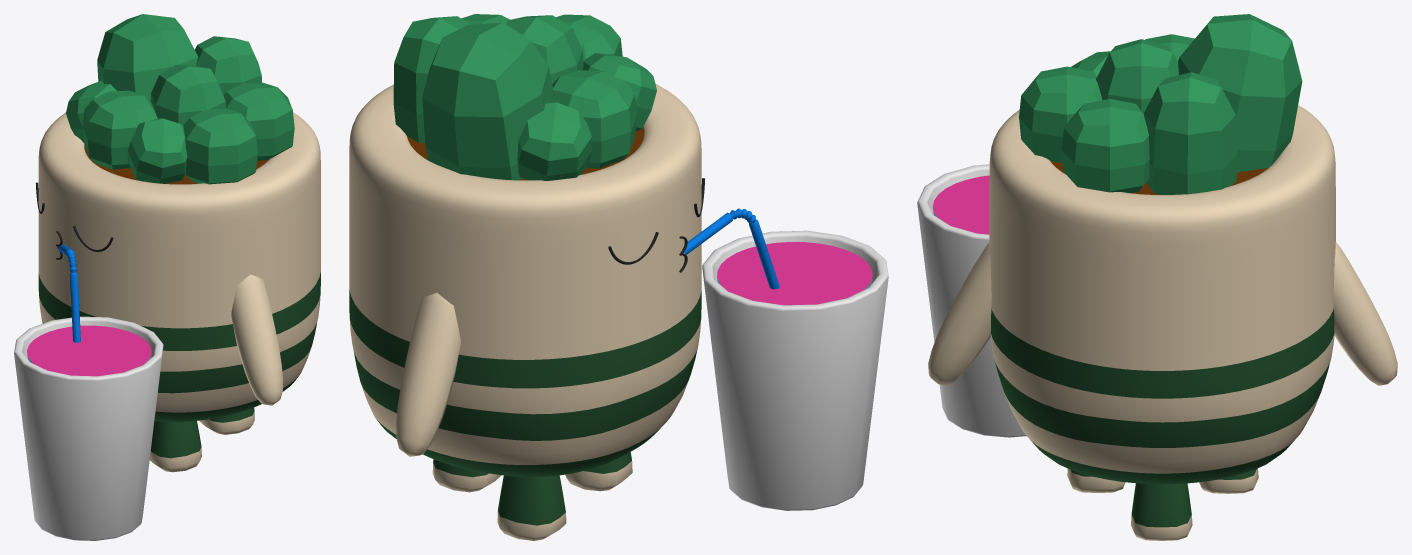
Rendered from vegesims-drink2.glb.
3 views of the same model, side by side, from view 1: azimuth 30°, elevation 25°; view 2: azimuth 150°, elevation 25°; view 3: azimuth 270°, elevation 25° (orthographic). The views are drawn at different scales.
Visible parts, largest first — view 1: body, hair, glass, drink, arm-left, leg-left, leg-back, cannuccia, ground; view 2: body, hair, glass, drink, arm-right, leg-right, cannuccia, leg-left, leg-back; view 3: body, hair, glass, arm-right, arm-left, leg-back, drink, leg-right, leg-left.
Part boxes in pixels (x1,y1,x2,y2): body: (38,112,320,422); hair: (66,14,294,184); glass: (14,316,163,540); drink: (27,325,151,376); arm-left: (231,274,282,405); leg-left: (149,421,201,472); leg-back: (199,407,254,434); cannuccia: (59,244,80,342); ground: (84,145,268,184); body: (349,83,701,477); hair: (393,14,656,181); glass: (702,230,888,510); drink: (717,242,872,305); arm-right: (396,293,460,456); leg-right: (497,475,566,540); cannuccia: (684,208,779,289); leg-left: (565,452,632,491); leg-back: (432,459,501,492); body: (989,105,1335,484); hair: (1019,14,1302,194); glass: (917,164,1026,437); arm-right: (1333,242,1397,385); arm-left: (928,242,991,385); leg-back: (1131,483,1192,540); drink: (932,175,989,234); leg-right: (1199,468,1258,493); leg-left: (1067,469,1125,492).
Bounding box in the file's own units: 2.77 × 3.08 × 2.76.
